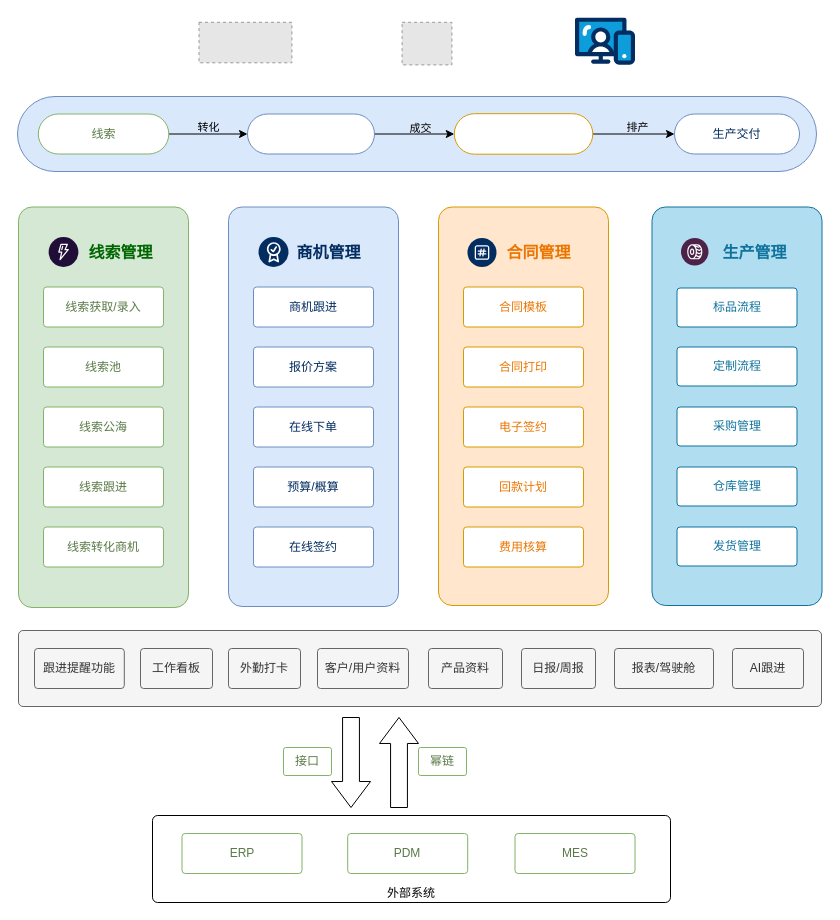
Some shapes in this 840 by 920 pixel diagram are drawn without their labels. Grey dashed boxes stand in for pictures. Here are the shapes that lost their labels. From the top down, the centre of each, then its label:
the point at 310,133: 商机
the point at 523,133: 合同
